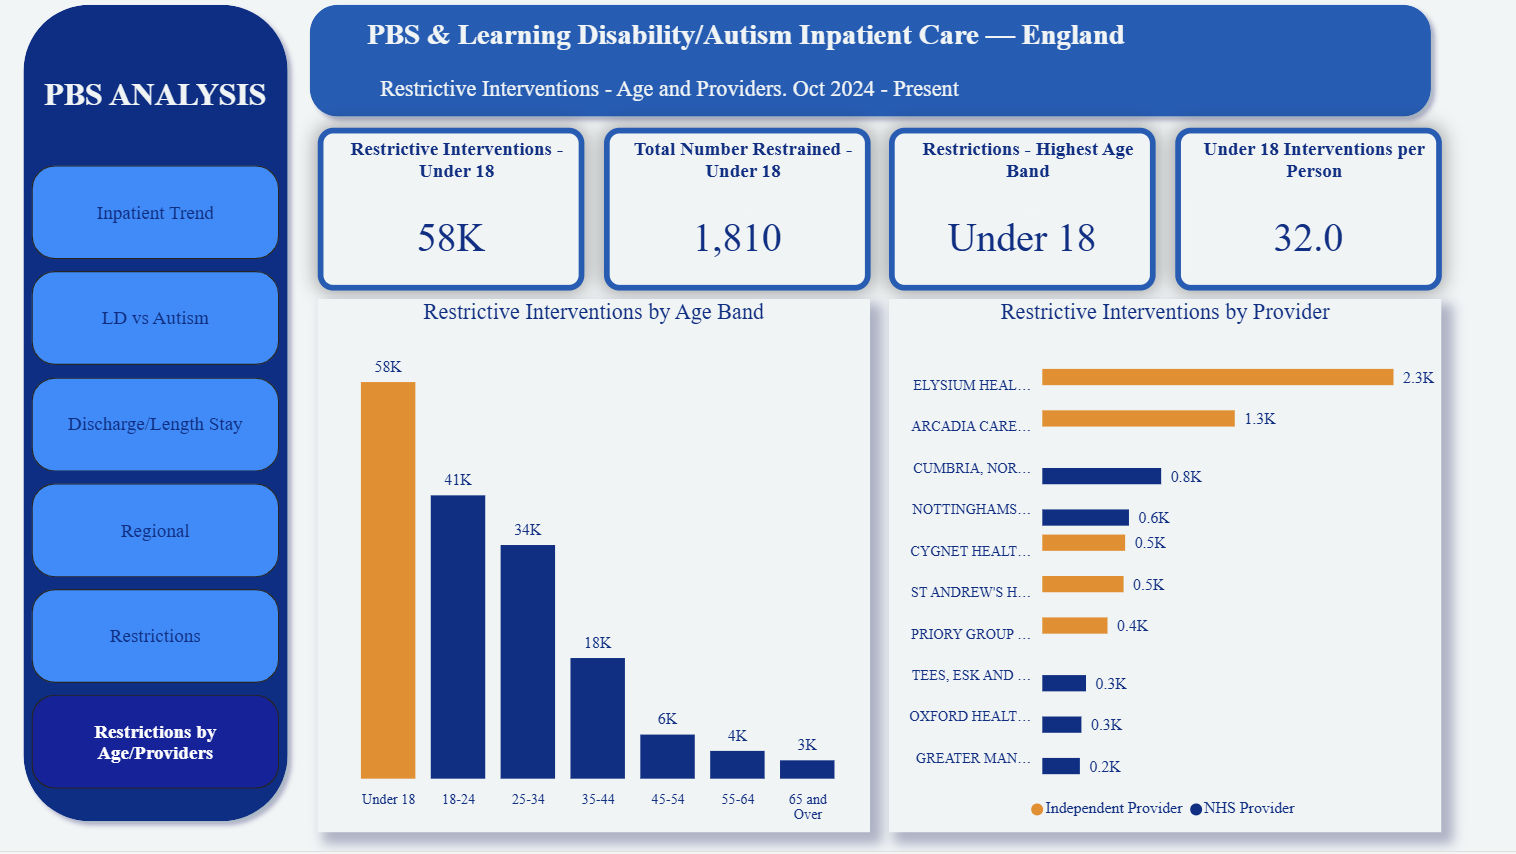

Layout of this report page (visuals, bound fields, positions):
{"tool":"powerbi","page":{"name":"Restrictions by Age/Providers","canvas":[1280,720],"ordinal":5},"visuals":[{"type":"shape","box":[256,0,960,112],"z":0},{"type":"shape","box":[16,0,240,704],"z":1000},{"type":"textbox","box":[288,16,688,48],"z":2000},{"type":"textbox","box":[304,64,528,32],"z":3000},{"type":"cardVisual","title":"Restrictive Interventions - Under 18","fields":{"Data":["_Measures.Under 18 Interventions (Cumulative)"]},"box":[272,112,224,137],"z":4000},{"type":"cardVisual","title":"Total Number Restrained - Under 18","fields":{"Data":["_Measures.Under 18 People Restrained (Cumulative)"]},"box":[512,112,224,137],"z":5000},{"type":"cardVisual","title":"Restrictions - Highest Age Band","fields":{"Data":["_Measures.Highest Age Band"]},"box":[752,112,224,137],"z":6000},{"type":"cardVisual","title":"Under 18 Interventions per Person","fields":{"Data":["_Measures.Under 18 Interventions Per Person"]},"box":[992,112,224,137],"z":7000},{"type":"clusteredColumnChart","title":"Restrictive Interventions by Age Band","fields":{"Category":["Fact_Restraint_Age_Trend.Age_Band"],"Y":["_Measures.Interventions by Age Band"]},"box":[272,256,464,448],"z":8000},{"type":"clusteredBarChart","title":"Restrictive Interventions by Provider","fields":{"Category":["Fact_Restraint_by_Provider.Provider_Name"],"Series":["Fact_Restraint_by_Provider.Org_Type"],"Y":["_Measures._Provider Interventions Raw"]},"box":[752,256,464,448],"z":9000},{"type":"pageNavigator","box":[32,144,208,528],"z":10000},{"type":"textbox","box":[32,64,208,64],"z":10001}]}

Visuals, with their boxes in screenshot pixels (x1, y1, x2, y2), scaled from the page's 1280x720 canvas onto the 1516x854 screenshot:
shape: (x1=303, y1=0, x2=1440, y2=133)
shape: (x1=19, y1=0, x2=303, y2=835)
textbox: (x1=341, y1=19, x2=1156, y2=76)
textbox: (x1=360, y1=76, x2=985, y2=114)
"Restrictive Interventions - Under 18" cardVisual: (x1=322, y1=133, x2=587, y2=295)
"Total Number Restrained - Under 18" cardVisual: (x1=606, y1=133, x2=872, y2=295)
"Restrictions - Highest Age Band" cardVisual: (x1=891, y1=133, x2=1156, y2=295)
"Under 18 Interventions per Person" cardVisual: (x1=1175, y1=133, x2=1440, y2=295)
"Restrictive Interventions by Age Band" clusteredColumnChart: (x1=322, y1=304, x2=872, y2=835)
"Restrictive Interventions by Provider" clusteredBarChart: (x1=891, y1=304, x2=1440, y2=835)
pageNavigator: (x1=38, y1=171, x2=284, y2=797)
textbox: (x1=38, y1=76, x2=284, y2=152)
